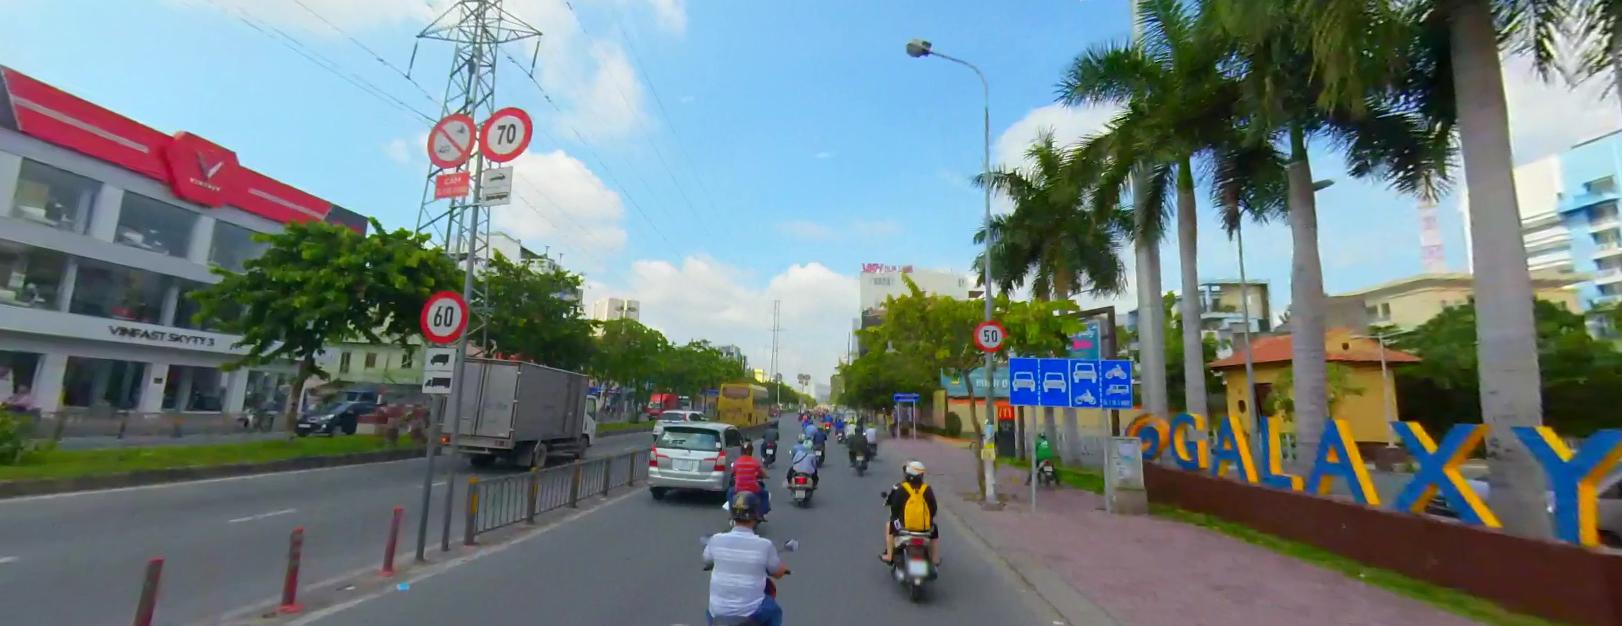Cam con lai: (425, 110, 476, 168)
Gioi han toc do: (479, 106, 532, 162), (419, 289, 468, 341), (972, 317, 1008, 351)
